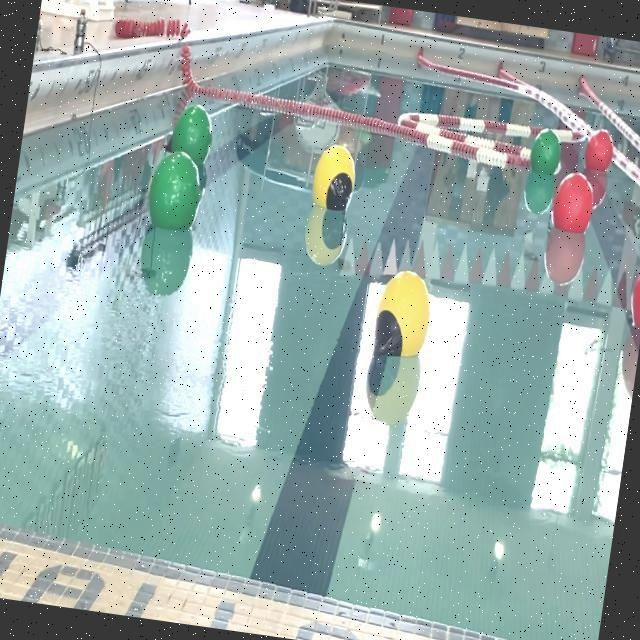buoy: (372, 266, 436, 366), (144, 149, 208, 239), (308, 140, 361, 218), (165, 100, 216, 170), (550, 168, 598, 238), (527, 127, 564, 179), (583, 130, 616, 175), (627, 251, 640, 334)
